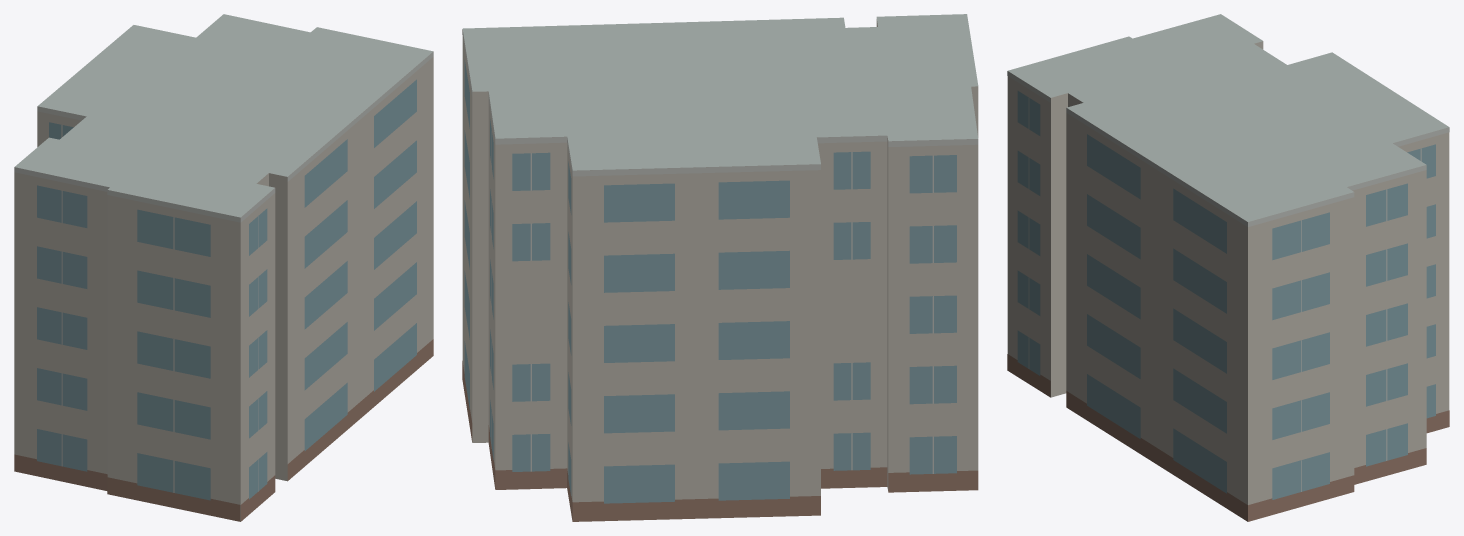
The model's file is survey-upis-32703287.glb.
3 views of the same model, side by side, from view 1: azimuth 30°, elevation 25°; view 2: azimuth 150°, elevation 25°; view 3: azimuth 270°, elevation 25° (orthographic). The views are drawn at different scales.
Parts seen in each view (by area): view 1: survey-upis-32703287.tmp; view 2: survey-upis-32703287.tmp; view 3: survey-upis-32703287.tmp.
Boxes of the visible parts, x1,y1,x2,y2 form: survey-upis-32703287.tmp: (14, 14, 433, 521); survey-upis-32703287.tmp: (462, 14, 978, 521); survey-upis-32703287.tmp: (1007, 14, 1449, 521).
Size of the model in its own units: 21.55 by 14.47 by 19.35.
